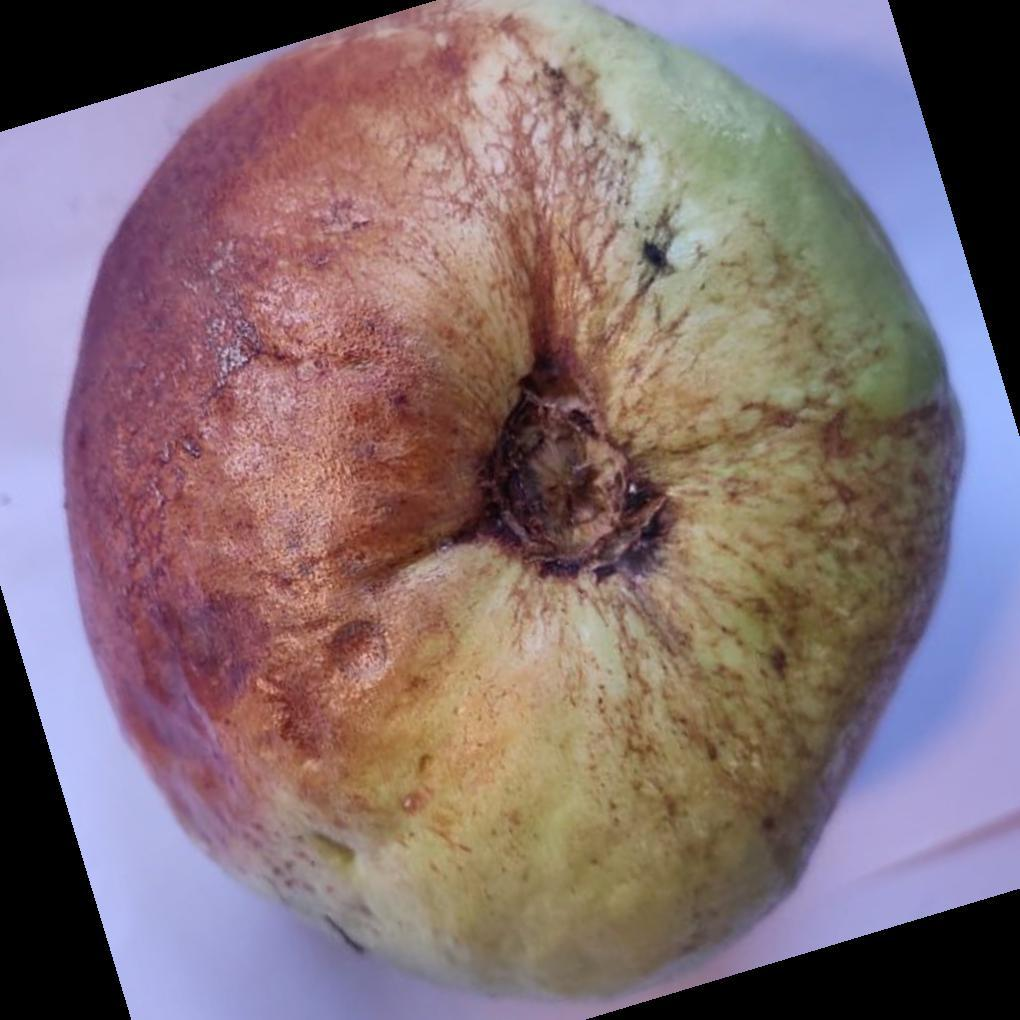FreshOrange: (60, 0, 963, 1002)
